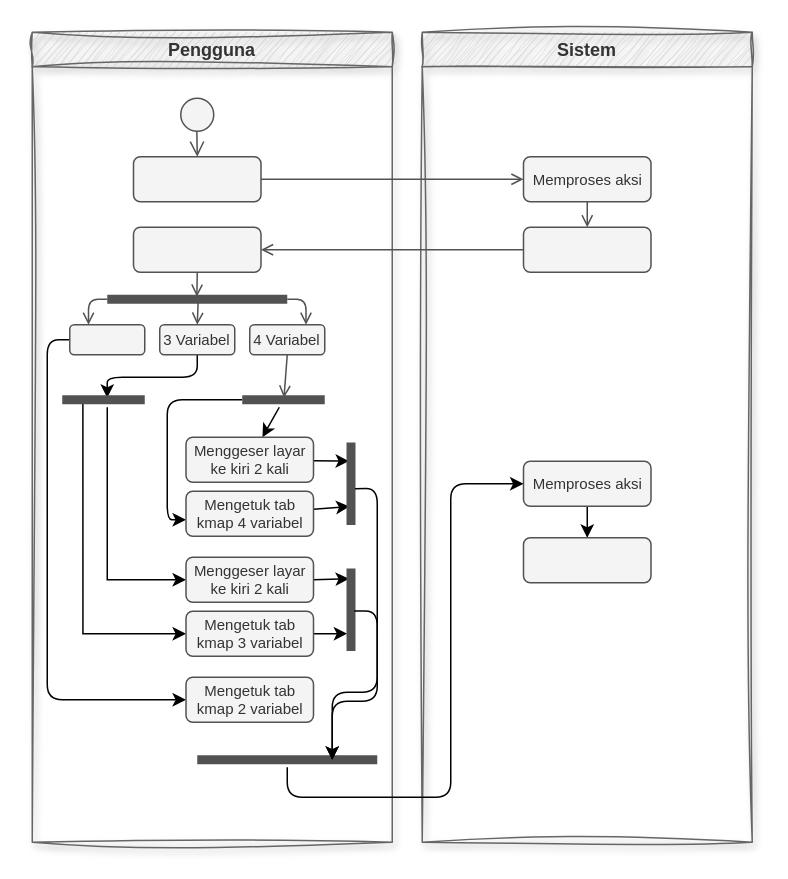
Some shapes in this 788 by 879 pixel diagram are drawn without their labels. Each missing label, with the centre of its shape:
"2 Variabel" goes at pixel 106 339.
"Memilih Variabel KMAP" goes at pixel 196 249.
"Menempelkan fitur" goes at pixel 586 559.
"Mengarahkan pengguna ke fitur" goes at pixel 586 249.
"Tekan fitur Karnaugh Map" goes at pixel 196 178.
